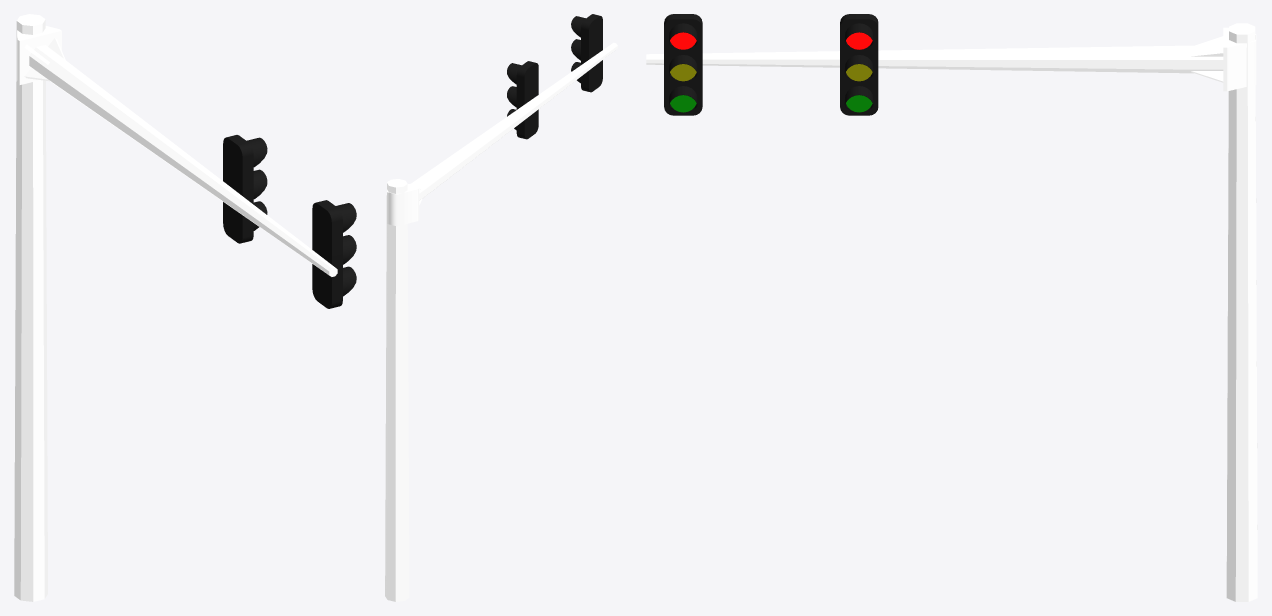
3 renders of one model, left to right at view 1: azimuth 30°, elevation 25°; view 2: azimuth 150°, elevation 25°; view 3: azimuth 270°, elevation 25°, orthographic. The views are drawn at different scales.
Visible parts, largest first — view 1: pCylinder15, polySurface130, polySurface135, polySurface138, polySurface147; view 2: pCylinder15, polySurface130, polySurface135, polySurface138, polySurface147; view 3: pCylinder15, polySurface130, polySurface135, polySurface138, polySurface147.
Boxes of the visible parts, x1,y1,x2,y2 form: pCylinder15: [14, 14, 47, 601]; polySurface130: [24, 38, 337, 276]; polySurface135: [312, 200, 356, 308]; polySurface138: [223, 135, 267, 243]; polySurface147: [17, 26, 61, 85]; pCylinder15: [385, 179, 409, 601]; polySurface130: [407, 42, 617, 204]; polySurface135: [571, 14, 602, 92]; polySurface138: [507, 61, 538, 139]; polySurface147: [387, 181, 419, 226]; pCylinder15: [1226, 23, 1257, 601]; polySurface130: [646, 36, 1223, 82]; polySurface135: [664, 14, 702, 115]; polySurface138: [840, 14, 878, 115]; polySurface147: [1223, 27, 1256, 91].
Bounding box in the file's own units: 0.6835 × 6.71 × 6.36.
